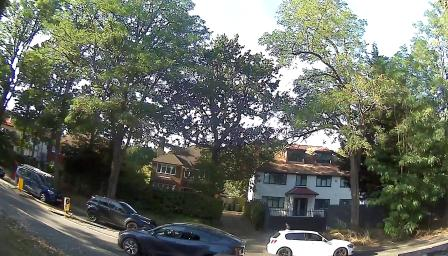Cars: (122, 215, 246, 256), (86, 188, 162, 231), (270, 222, 355, 255), (15, 163, 62, 203)
